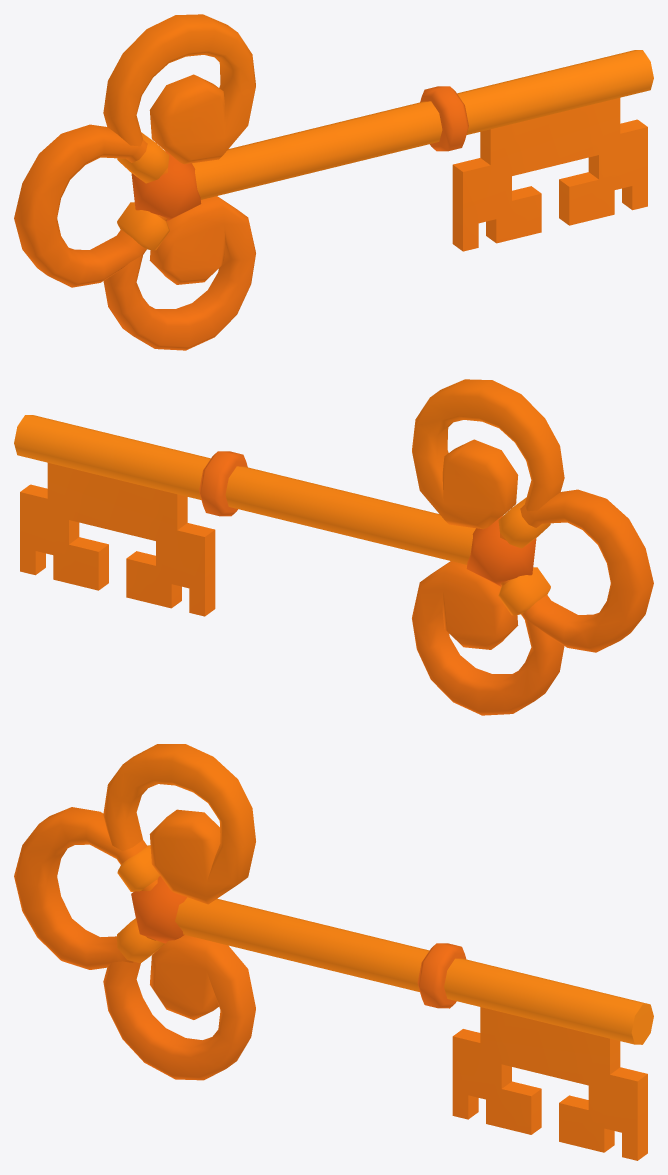
The model's file is key_002.glb.
The picture shows the model from 3 angles, top to bottom: view 1: azimuth 30°, elevation 25°; view 2: azimuth 150°, elevation 25°; view 3: azimuth 330°, elevation 25°; orthographic projection.
Visible parts, largest first — view 1: key_002; view 2: key_002; view 3: key_002.
Boxes of the visible parts, x1,y1,x2,y2 form: key_002: (14,14,653,350); key_002: (14,379,653,715); key_002: (14,744,653,1160).
Size of the model in its own units: 1.69 by 0.8508 by 0.161.
1 material, 1 textured.
